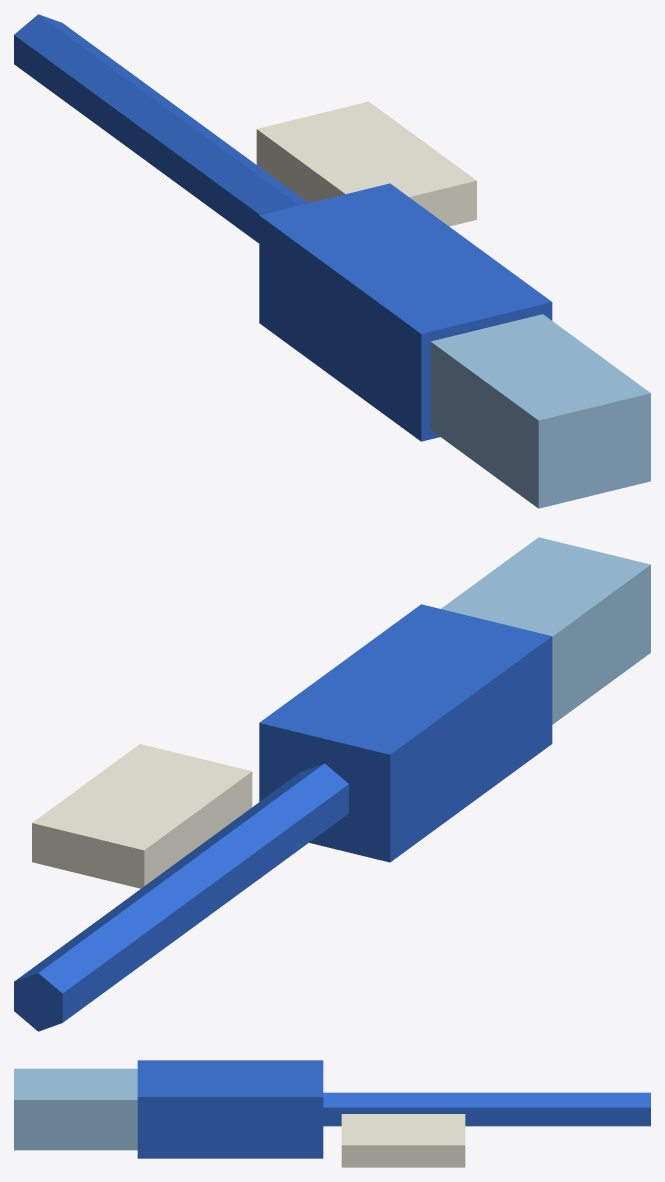
The model's file is dc.patch-lead.glb.
3 views of the same model, one above another, from view 1: azimuth 30°, elevation 25°; view 2: azimuth 150°, elevation 25°; view 3: azimuth 270°, elevation 25° (orthographic). The views are drawn at different scales.
Parts seen in each view (by area): view 1: boot, plug, cable, tag; view 2: boot, cable, tag, plug; view 3: boot, plug, cable, tag.
Boxes of the visible parts, bbox=[...] form: boot: bbox=[259, 183, 552, 441]; plug: bbox=[430, 314, 650, 508]; cable: bbox=[14, 14, 308, 243]; tag: bbox=[256, 101, 476, 226]; boot: bbox=[259, 604, 552, 862]; cable: bbox=[14, 763, 348, 1031]; tag: bbox=[32, 744, 252, 888]; plug: bbox=[441, 537, 650, 724]; boot: bbox=[137, 1060, 323, 1158]; plug: bbox=[14, 1068, 137, 1150]; cable: bbox=[323, 1092, 650, 1126]; tag: bbox=[341, 1114, 465, 1167].
Bounding box in the file's own units: 0.025 × 0.011 × 0.103.
